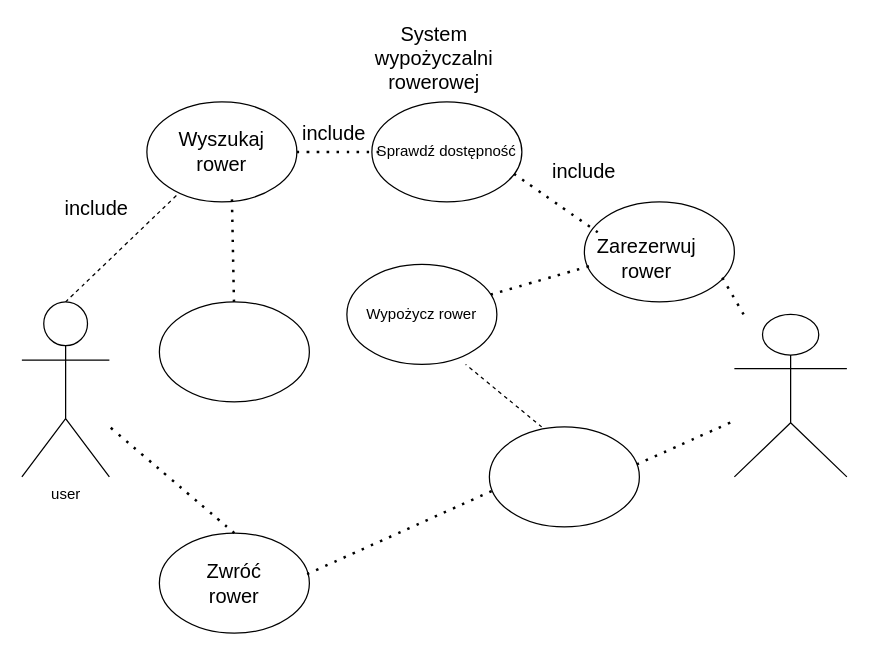
Image size: 869x655. Some labels were removed from this diagram. The box of each missing label's shape, as (x1, y1, x2, y2) in pixels:
Informacje o rowerze: (158, 301, 309, 402)
Pracownik: (733, 313, 847, 477)
Wyświetl historię rowerów: (488, 426, 639, 527)
